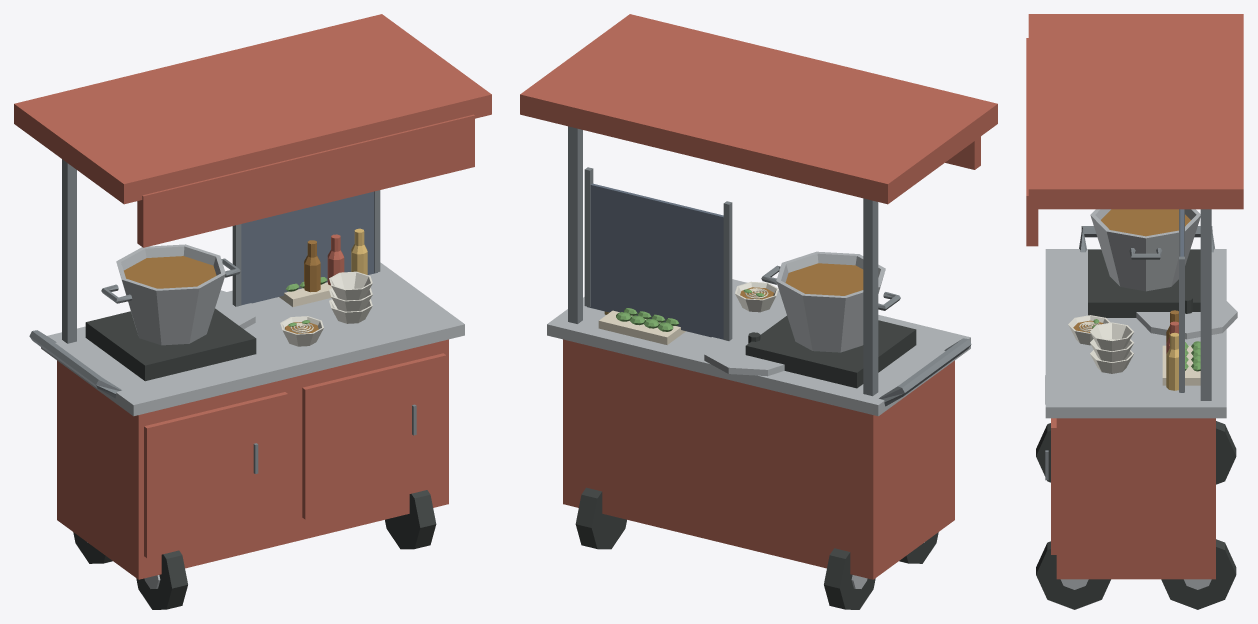
The model's file is HuTieuCart.glb.
3 views of the same model, side by side, from view 1: azimuth 30°, elevation 25°; view 2: azimuth 150°, elevation 25°; view 3: azimuth 270°, elevation 25° (orthographic). The views are drawn at different scales.
Visible parts, largest first — view 1: ST_HuTieuCart_ST_red.001, ST_HuTieuCart_ST_steel.001, ST_HuTieuCart_ST_black.001, ST_Prep_Glass.001, ST_HuTieuCart_PBK_Indochine_metal.001, ST_HuTieuCart_ST_broth.001, ST_HuTieuCart_ST_white.001, ST_HuTieuCart_ST_cream.001, ST_Condiment.001; view 2: ST_HuTieuCart_ST_red.001, ST_HuTieuCart_ST_steel.001, ST_Prep_Glass.001, ST_HuTieuCart_PBK_Indochine_metal.001, ST_HuTieuCart_ST_black.001, ST_HuTieuCart_ST_broth.001, ST_HuTieuCart_ST_cream.001, ST_HuTieuCart_ST_leaf.001, ST_HuTieuCart_ST_white.001; view 3: ST_HuTieuCart_ST_red.001, ST_HuTieuCart_ST_steel.001, ST_HuTieuCart_ST_black.001, ST_HuTieuCart_PBK_Indochine_metal.001, ST_HuTieuCart_ST_white.001, ST_HuTieuCart_ST_broth.001, ST_HuTieuCart_ST_cream.001, ST_Condiment.001, ST_HuTieuCart_ST_leaf.001.
Part boxes in pixels (x1,y1,x2,y2): ST_HuTieuCart_ST_red.001: [14, 14, 491, 579]; ST_HuTieuCart_ST_steel.001: [41, 244, 464, 588]; ST_HuTieuCart_ST_black.001: [73, 308, 436, 609]; ST_Prep_Glass.001: [241, 191, 377, 305]; ST_HuTieuCart_PBK_Indochine_metal.001: [29, 159, 416, 473]; ST_HuTieuCart_ST_broth.001: [124, 240, 320, 333]; ST_HuTieuCart_ST_white.001: [280, 271, 372, 346]; ST_HuTieuCart_ST_cream.001: [279, 282, 332, 333]; ST_Condiment.001: [351, 228, 367, 274]; ST_HuTieuCart_ST_red.001: [520, 14, 997, 579]; ST_HuTieuCart_ST_steel.001: [547, 251, 970, 588]; ST_Prep_Glass.001: [587, 183, 723, 339]; ST_HuTieuCart_PBK_Indochine_metal.001: [568, 126, 971, 406]; ST_HuTieuCart_ST_black.001: [575, 316, 938, 609]; ST_HuTieuCart_ST_broth.001: [740, 263, 863, 299]; ST_HuTieuCart_ST_cream.001: [598, 288, 768, 344]; ST_HuTieuCart_ST_leaf.001: [616, 289, 764, 331]; ST_HuTieuCart_ST_white.001: [735, 281, 778, 312]; ST_HuTieuCart_ST_red.001: [1026, 14, 1243, 579]; ST_HuTieuCart_ST_steel.001: [1045, 209, 1237, 589]; ST_HuTieuCart_ST_black.001: [1036, 249, 1236, 609]; ST_HuTieuCart_PBK_Indochine_metal.001: [1045, 209, 1214, 480]; ST_HuTieuCart_ST_white.001: [1068, 315, 1133, 373]; ST_HuTieuCart_ST_broth.001: [1073, 209, 1190, 342]; ST_HuTieuCart_ST_cream.001: [1079, 321, 1200, 385]; ST_Condiment.001: [1166, 332, 1178, 390]; ST_HuTieuCart_ST_leaf.001: [1092, 319, 1200, 371].
Size of the model in its own units: 1.72 by 2.04 by 0.9.
